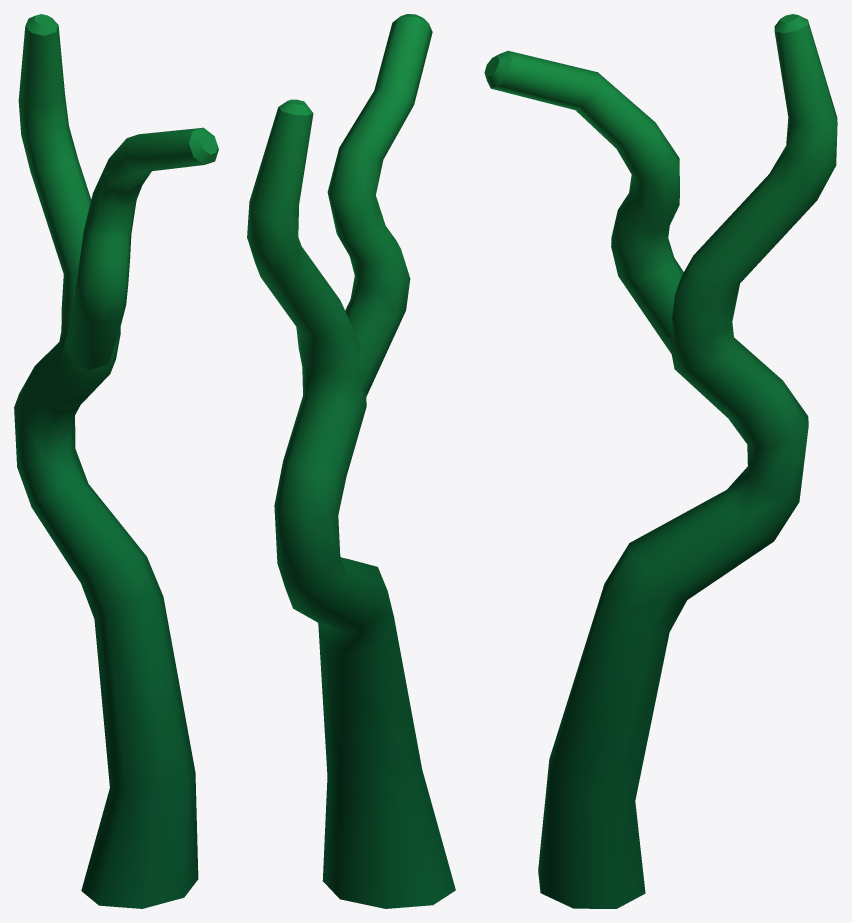
File: Vine_1_2.glb
The picture shows the model from 3 angles, left to right: view 1: azimuth 30°, elevation 25°; view 2: azimuth 150°, elevation 25°; view 3: azimuth 270°, elevation 25°; orthographic projection. The views are drawn at different scales.
Visible parts, largest first — view 1: Vine_1_2; view 2: Vine_1_2; view 3: Vine_1_2.
Part boxes in pixels (x1,y1,x2,y2): Vine_1_2: [14, 14, 218, 908]; Vine_1_2: [247, 14, 455, 908]; Vine_1_2: [484, 14, 837, 908].
Bounding box in the file's own units: 0.1133 × 0.8501 × 0.3151.
Materials: 1 (1 with a texture image).
